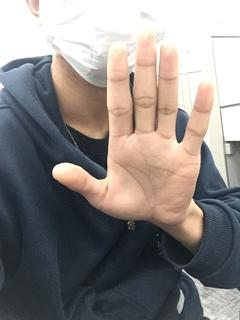hand: (51, 25, 217, 226)
